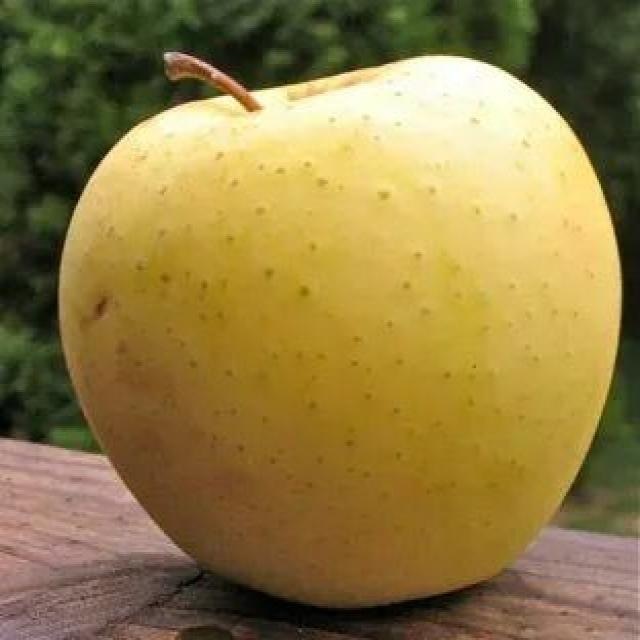Fresh Apple: (61, 68, 640, 596)
